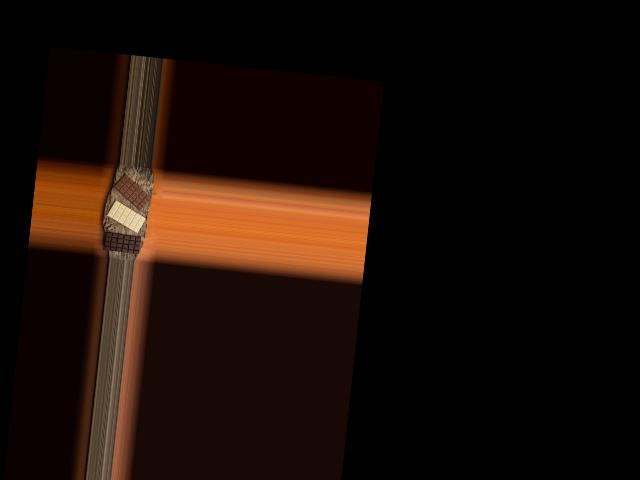chocolate: (102, 232, 141, 254)
